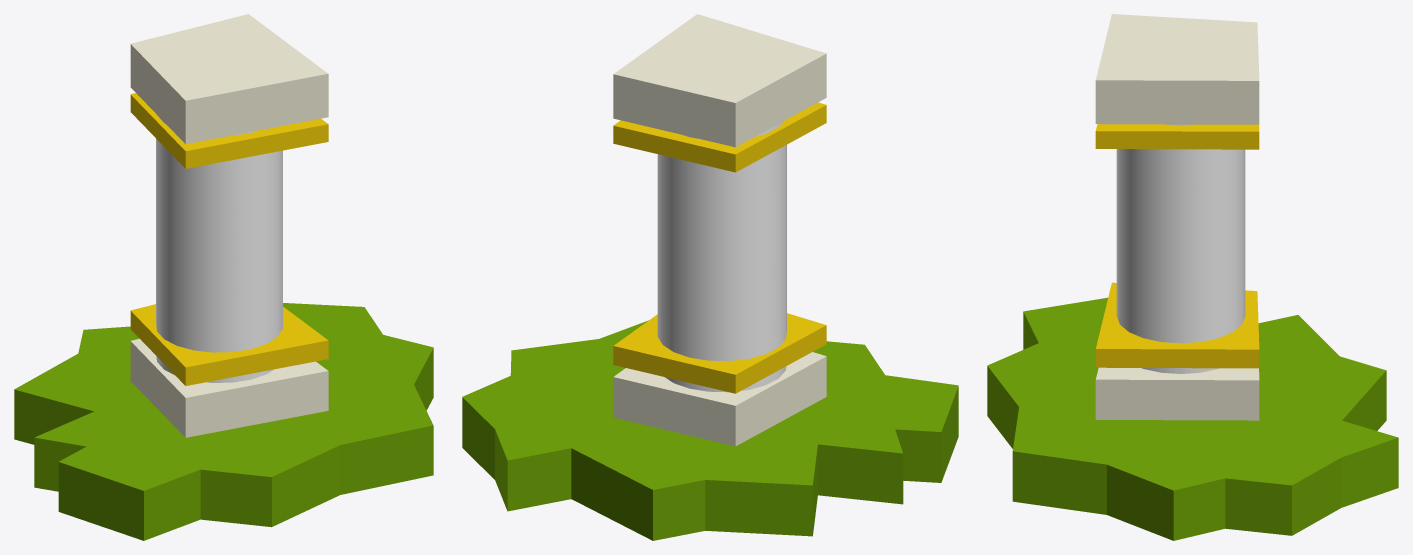
File: SM_T_Tower.fbx
3 renders of one model, left to right at view 1: azimuth 30°, elevation 25°; view 2: azimuth 150°, elevation 25°; view 3: azimuth 270°, elevation 25°, orthographic.
Visible parts, largest first — view 1: polySurface5; view 2: polySurface5; view 3: polySurface5.
Part boxes in pixels (x1,y1,x2,y2): polySurface5: (14,14,433,540); polySurface5: (462,14,958,540); polySurface5: (987,14,1398,540).
Size of the model in its own units: 145 by 134 by 128.
